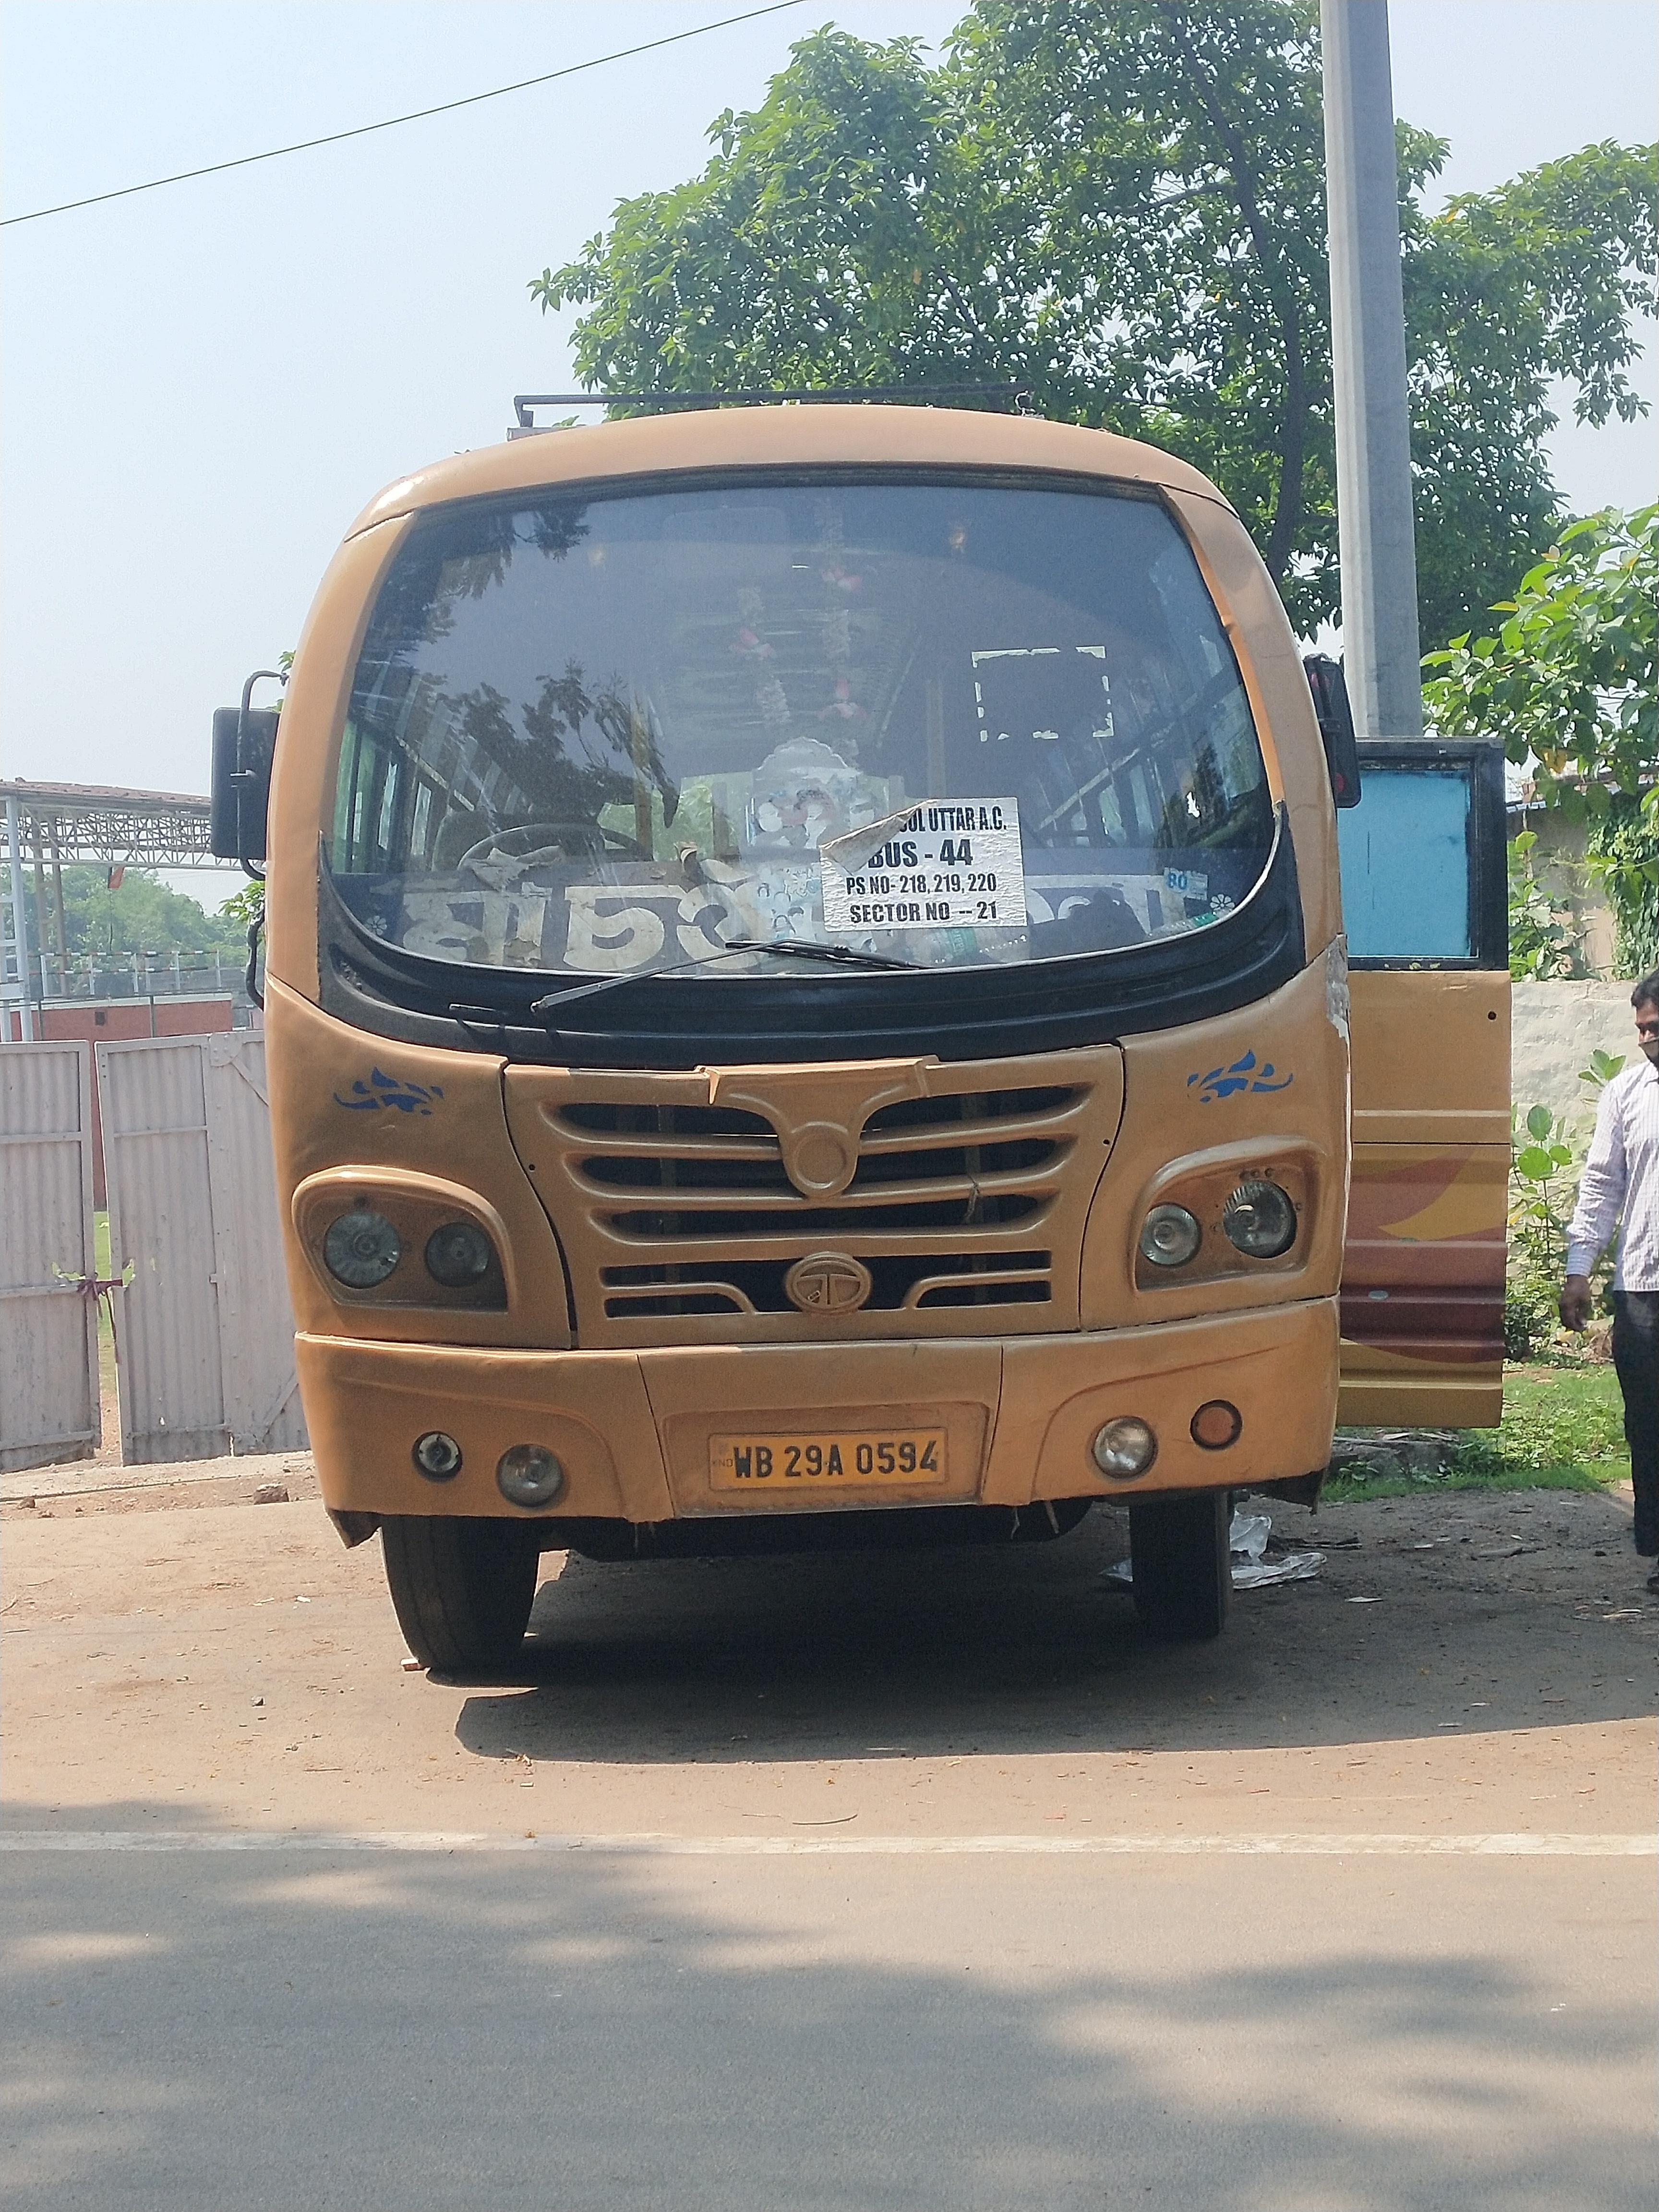Bus: (228, 399, 1429, 1686)
